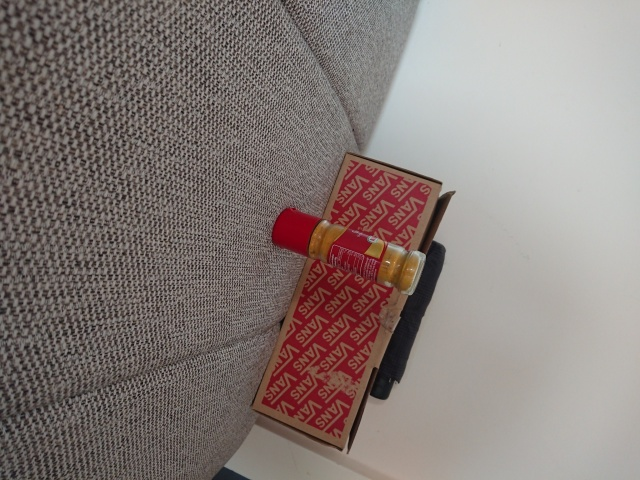Kotanyi Curry Spices Mix 70g: (269, 205, 429, 296)
